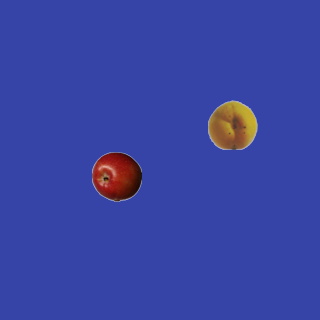Apple Braeburn: (91, 151, 141, 201)
Peach 2: (207, 99, 257, 149)
